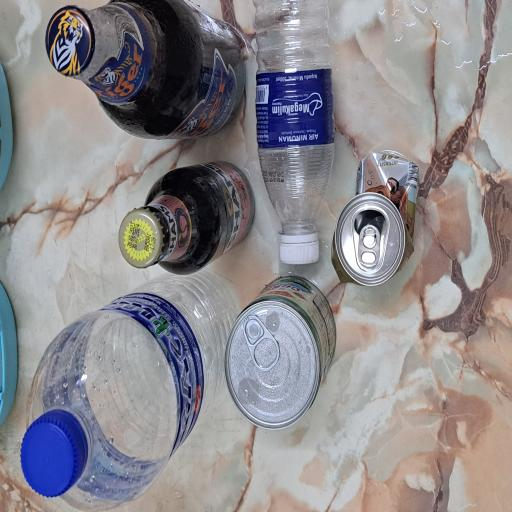can: (64, 298, 176, 448), (168, 449, 270, 512)
glass bottle: (277, 60, 384, 325), (181, 157, 264, 339)
plastic bottle: (6, 26, 179, 322), (185, 339, 384, 447)
plastic bottle cap: (12, 28, 76, 120), (185, 370, 213, 428)
pop tab: (104, 322, 148, 376), (183, 475, 216, 508)
